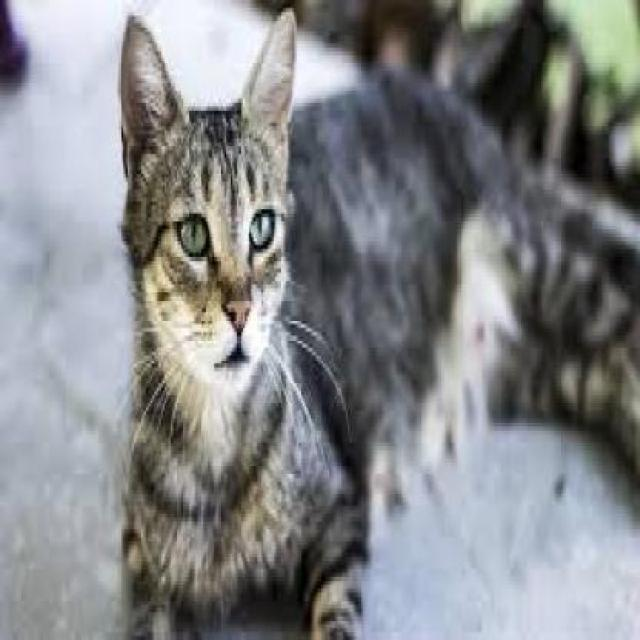cat: (114, 36, 306, 539)
